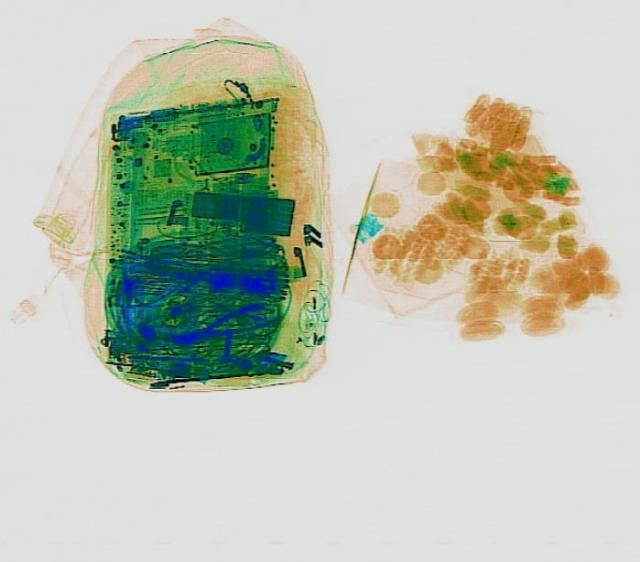Pliers: (172, 294, 282, 351)
